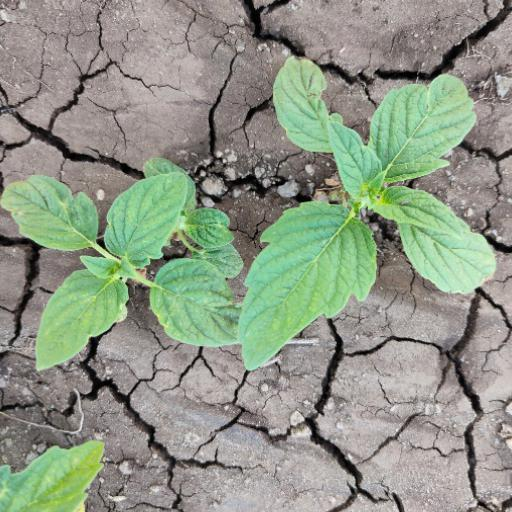crop: (235, 72, 496, 365), (9, 155, 262, 386)
